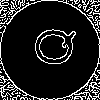Q: (25, 25, 77, 68)
